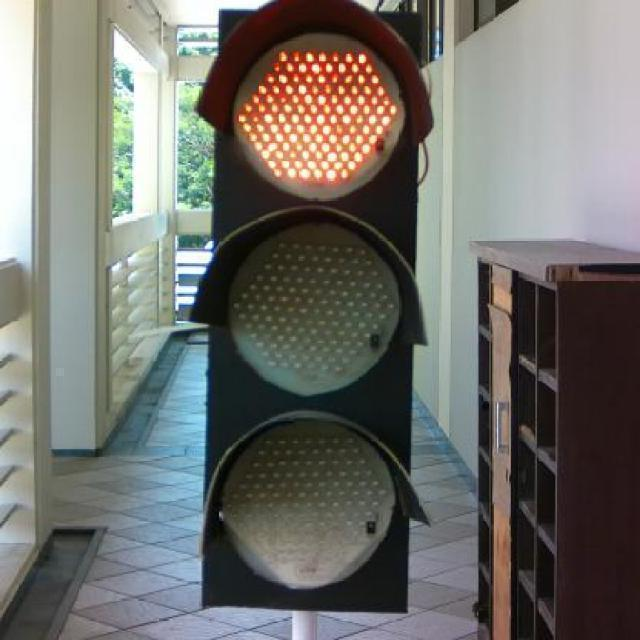red_light: (190, 0, 430, 610)
